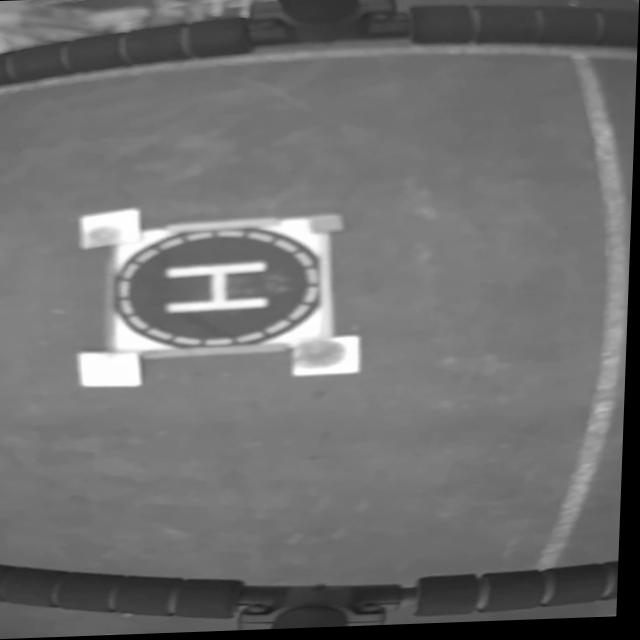Helipad: (166, 260, 271, 314)
